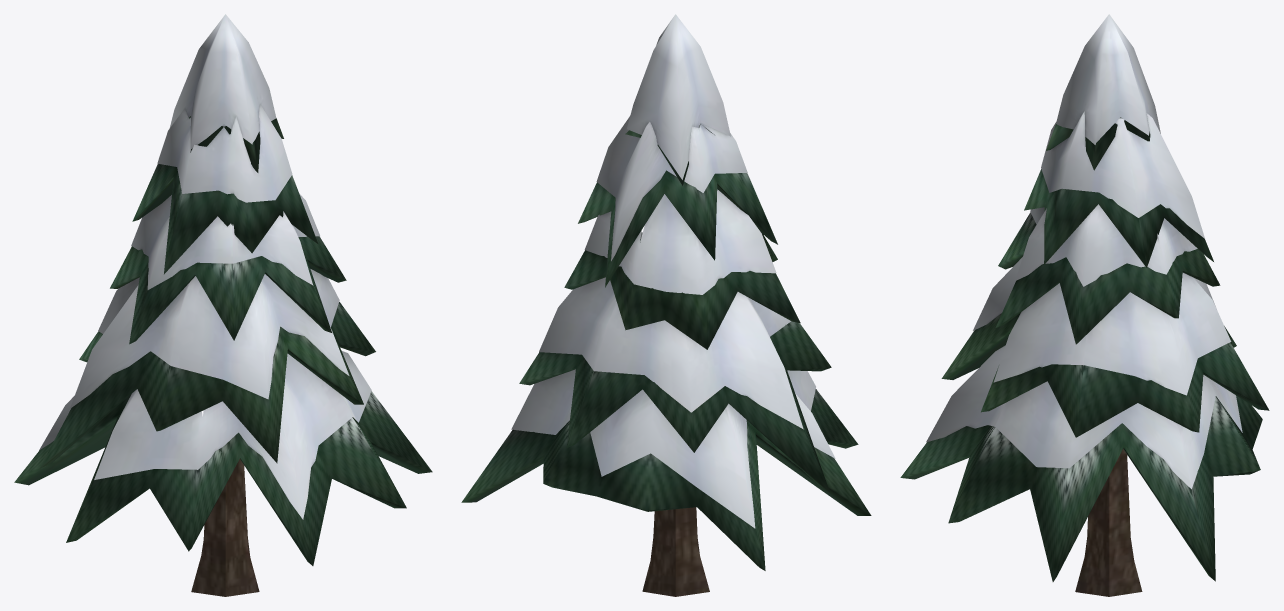
Rendered from pine_snow.glb.
The picture shows the model from 3 angles, left to right: view 1: azimuth 30°, elevation 25°; view 2: azimuth 150°, elevation 25°; view 3: azimuth 270°, elevation 25°; orthographic projection.
Visible parts, largest first — view 1: root_mesh; view 2: root_mesh; view 3: root_mesh.
Part boxes in pixels (bbox=[...]): root_mesh: bbox=[14, 14, 432, 596]; root_mesh: bbox=[461, 14, 871, 596]; root_mesh: bbox=[900, 14, 1269, 596].
Size of the model in its own units: 1.01 by 1.54 by 0.9046.
Materials: 1 (1 with a texture image).
